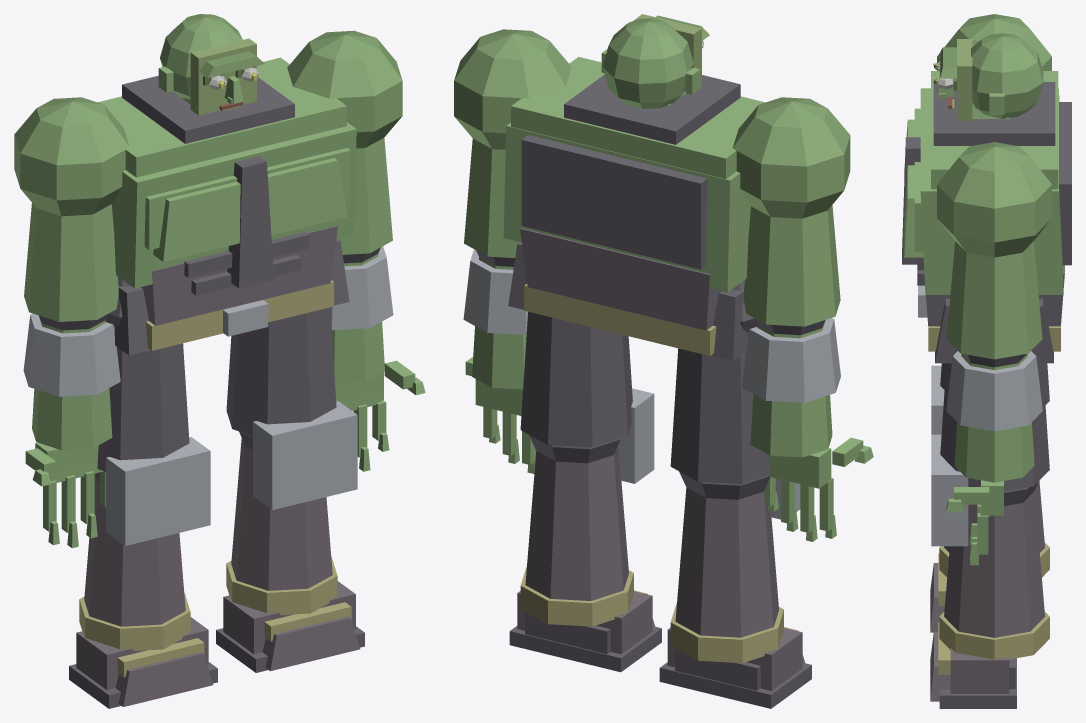
Rendered from titan.glb.
3 renders of one model, left to right at view 1: azimuth 30°, elevation 25°; view 2: azimuth 150°, elevation 25°; view 3: azimuth 270°, elevation 25°, orthographic. The views are drawn at different scales.
Visible parts, largest first — view 1: torso, upperArmL, lowerLegR, lowerLegL, upperArmR, upperLegR, lowerArmL, upperLegL, footR, footL, head, hips (+3 smaller); view 2: torso, upperArmL, lowerLegR, lowerLegL, upperLegR, upperArmR, upperLegL, lowerArmL, head, hips, footL, footR (+3 smaller); view 3: upperArmR, torso, lowerLegR, lowerArmR, head, footR, upperLegR, handR, hips, upperArmL, lowerLegL, footL (+1 smaller).
Boxes of the visible parts, <box> form: torso: <box>98,57,356,325</box>; upperArmL: <box>14,97,129,330</box>; lowerLegR: <box>226,401,357,615</box>; lowerLegL: <box>79,437,210,650</box>; upperArmR: <box>287,30,402,263</box>; upperLegR: <box>226,307,336,449</box>; lowerArmL: <box>23,313,120,450</box>; upperLegL: <box>95,276,189,483</box>; footR: <box>216,581,364,672</box>; footL: <box>69,617,217,708</box>; head: <box>158,14,264,115</box>; hips: <box>114,239,349,355</box>; torso: <box>503,56,765,330</box>; upperArmL: <box>733,97,850,335</box>; lowerLegR: <box>520,388,654,626</box>; lowerLegL: <box>670,478,800,663</box>; upperLegR: <box>520,311,632,463</box>; upperArmR: <box>454,29,571,266</box>; upperLegL: <box>670,280,770,499</box>; lowerArmL: <box>742,318,840,457</box>; head: <box>601,14,709,108</box>; hips: <box>508,242,747,360</box>; footL: <box>659,627,811,708</box>; footR: <box>509,590,661,672</box>; upperArmR: <box>937,142,1051,367</box>; torso: <box>902,71,1071,326</box>; lowerLegR: <box>931,434,1049,659</box>; lowerArmR: <box>946,351,1042,482</box>; head: <box>933,33,1043,121</box>; footR: <box>930,622,1016,708</box>; upperLegR: <box>940,363,1049,505</box>; handR: <box>946,480,1003,565</box>; hips: <box>918,285,1060,363</box>; upperArmL: <box>937,14,1051,70</box>; lowerLegL: <box>931,365,1049,577</box>; footL: <box>930,553,947,632</box>.
Bounding box in the file's own units: 1.37 × 2.18 × 0.5468.
